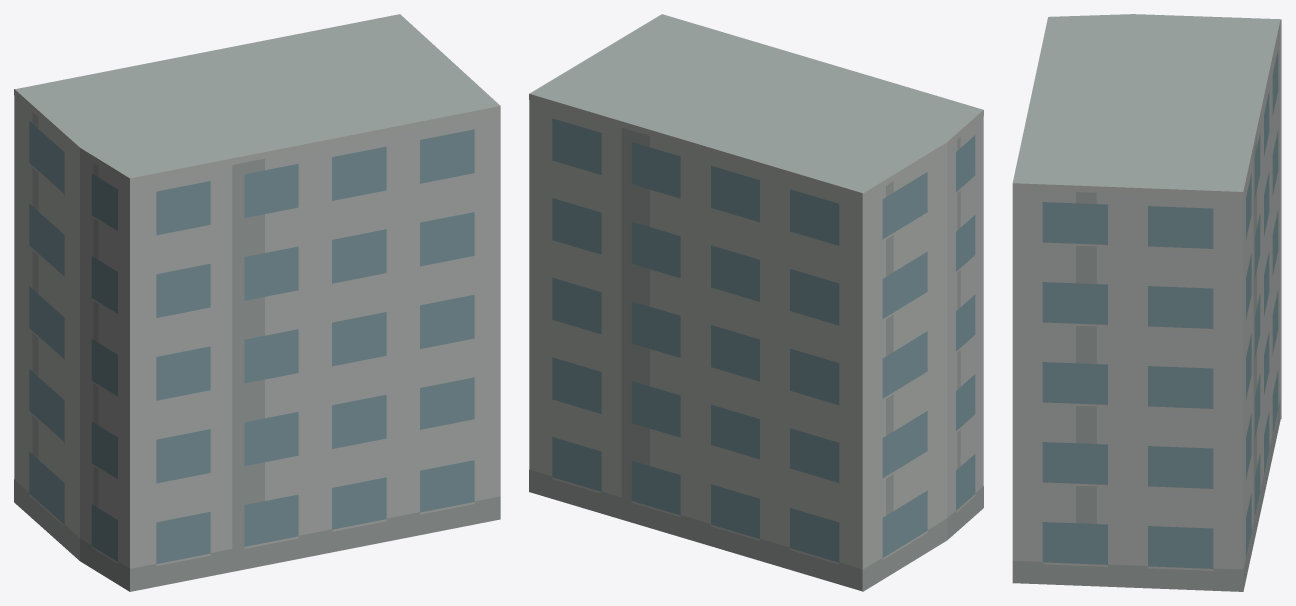
Rendered from survey-upis-32485381.glb.
The picture shows the model from 3 angles, left to right: view 1: azimuth 30°, elevation 25°; view 2: azimuth 150°, elevation 25°; view 3: azimuth 270°, elevation 25°; orthographic projection. The views are drawn at different scales.
Parts seen in each view (by area): view 1: survey-upis-32485381.tmp; view 2: survey-upis-32485381.tmp; view 3: survey-upis-32485381.tmp.
Boxes of the visible parts, left/top/right/bottom form: survey-upis-32485381.tmp: left=14, top=14, right=500, bottom=591; survey-upis-32485381.tmp: left=529, top=14, right=983, bottom=591; survey-upis-32485381.tmp: left=1012, top=14, right=1281, bottom=591.
Bounding box in the file's own units: 14.56 × 15.25 × 9.3.
